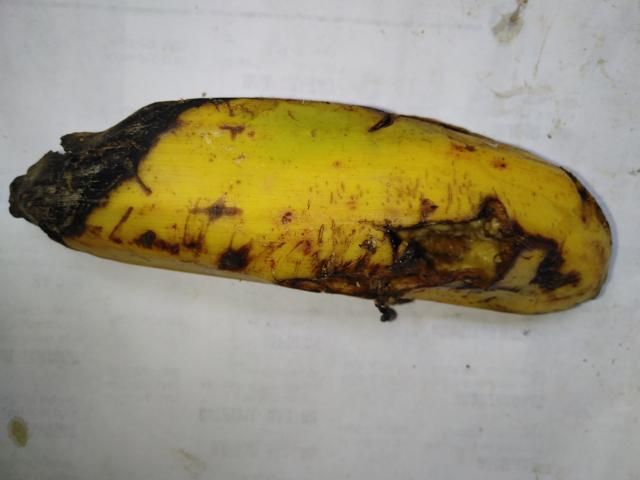ripe: (204, 94, 622, 330)
rotten: (7, 70, 224, 262), (338, 184, 569, 345)
